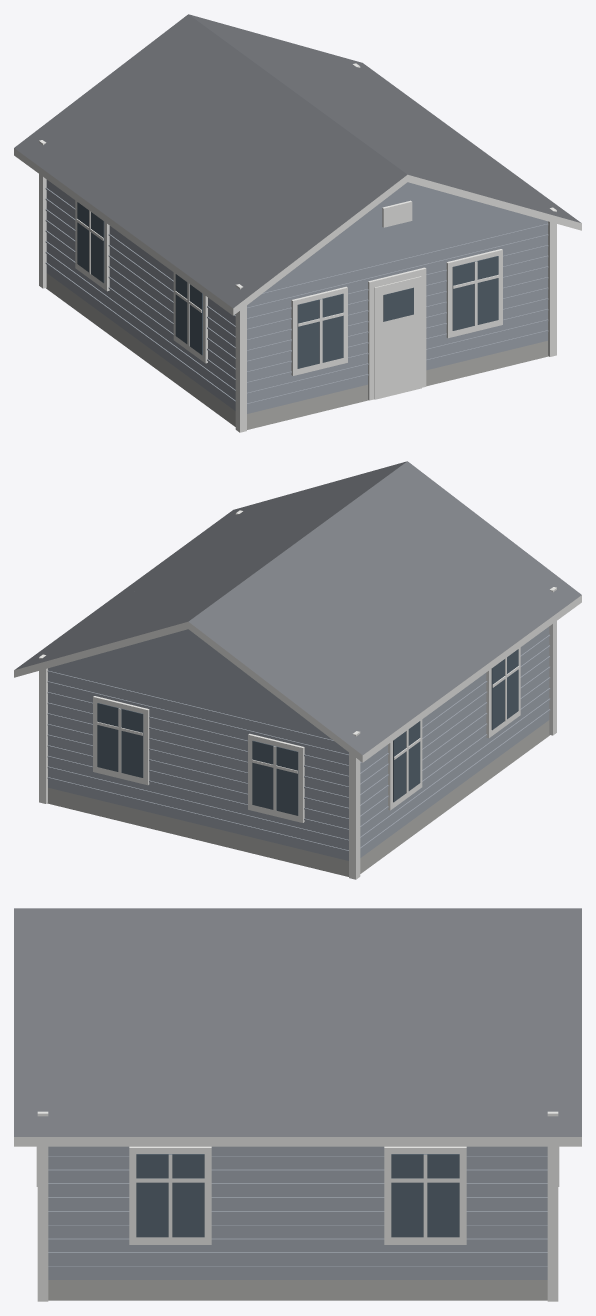
The model's file is fig-cottage.glb.
The picture shows the model from 3 angles, top to bottom: view 1: azimuth 30°, elevation 25°; view 2: azimuth 150°, elevation 25°; view 3: azimuth 270°, elevation 25°; orthographic projection. The views are drawn at different scales.
Visible parts, largest first — view 1: The Fig (cottage); view 2: The Fig (cottage); view 3: The Fig (cottage).
Boxes of the visible parts, x1,y1,x2,y2 form: The Fig (cottage): (14,14,581,432); The Fig (cottage): (14,461,581,879); The Fig (cottage): (14,908,581,1301).
Bounding box in the file's own units: 6.86 × 4.27 × 7.47.
